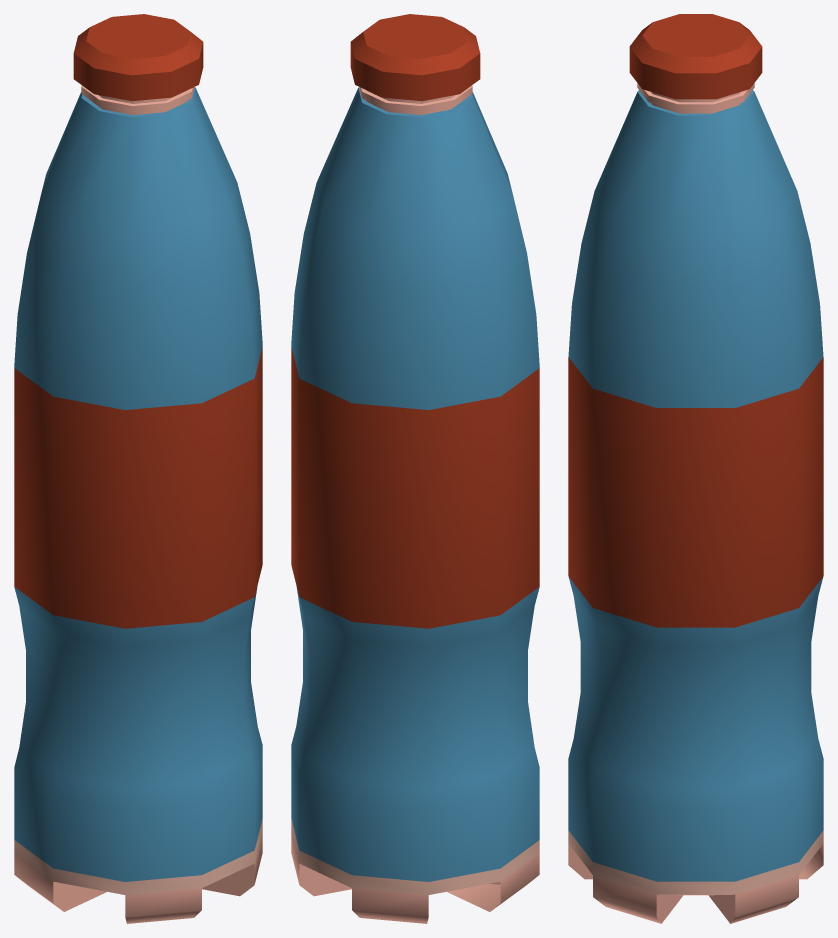
File: water .fbx
3 renders of one model, left to right at view 1: azimuth 30°, elevation 25°; view 2: azimuth 150°, elevation 25°; view 3: azimuth 270°, elevation 25°, orthographic.
Parts seen in each view (by area): view 1: Cylinder.002; view 2: Cylinder.002; view 3: Cylinder.002.
Boxes of the visible parts, left/top/right/bottom form: Cylinder.002: left=14, top=14, right=262, bottom=923; Cylinder.002: left=291, top=14, right=539, bottom=923; Cylinder.002: left=568, top=14, right=823, bottom=923.
Bounding box in the file's own units: 17.09 × 65.58 × 17.97.
